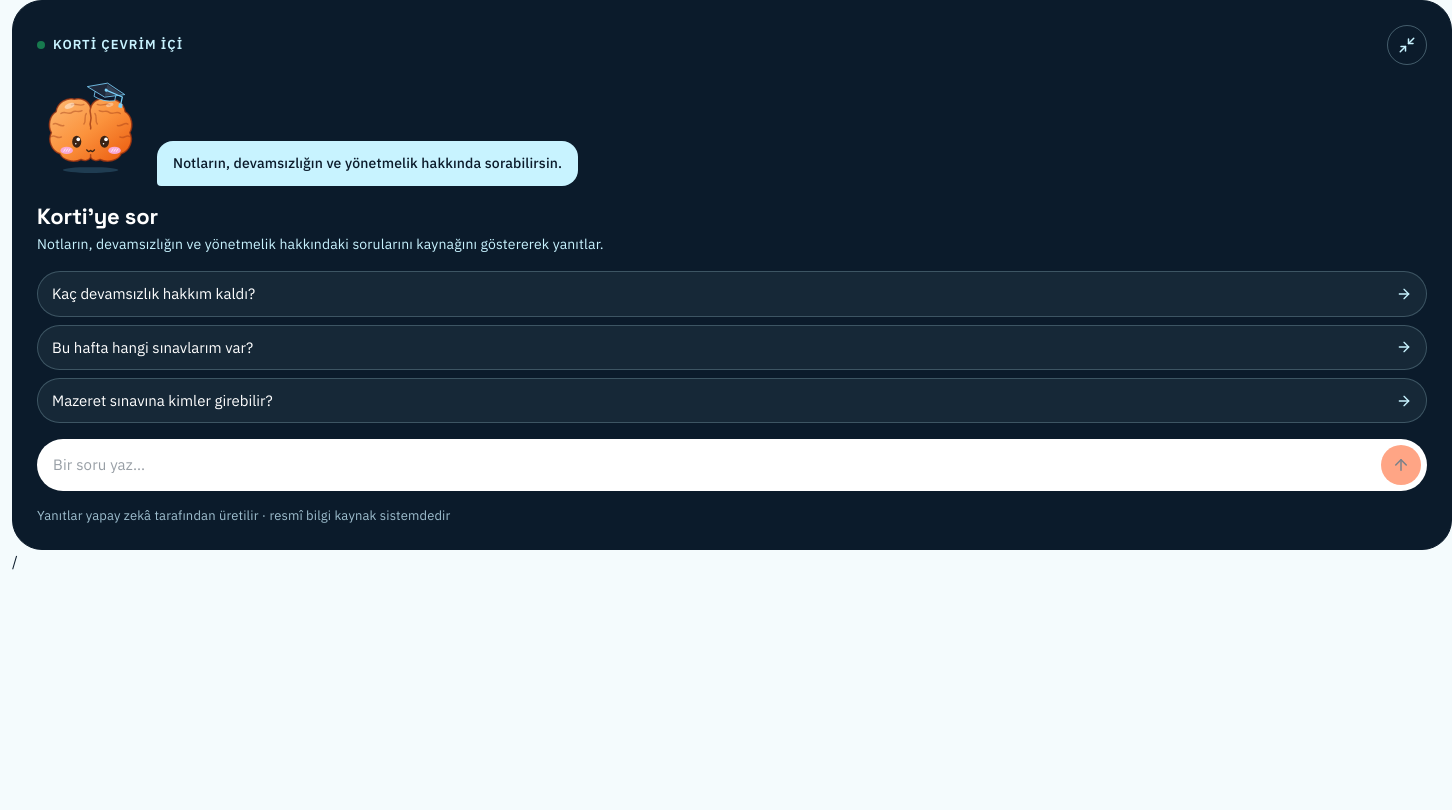
paneldeki Korti kartı ve sağ alttaki düğme › karttaki hazır soru asistana soruyla birlikte gider
The width and height of the screenshot is (1452, 810).
Click the button "Kaç devamsızlık hakkım kaldı?" at (154, 294), box top-left (37, 271), bottom-right (1427, 317)
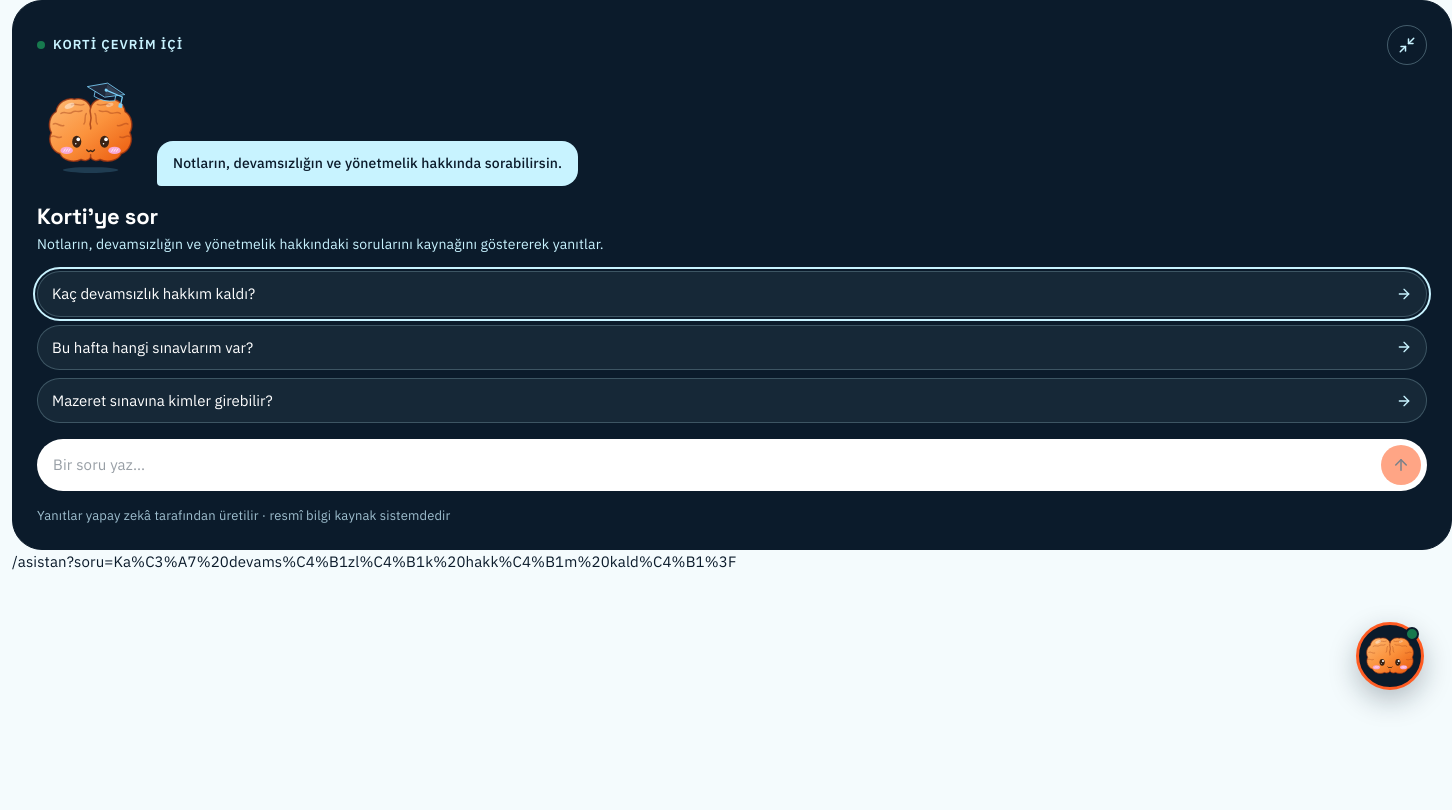
Expected: the text with test id "konum" shows "/asistan?soru=", top-left (12, 552), bottom-right (736, 571)
